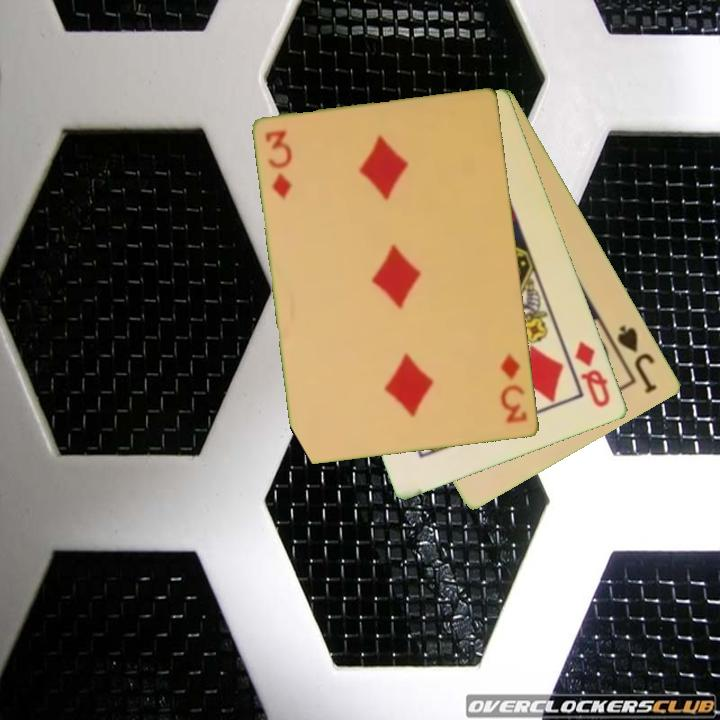3d: (262, 127, 296, 203), (497, 351, 531, 426)
Js: (614, 321, 661, 397)
Qd: (572, 337, 614, 411)
